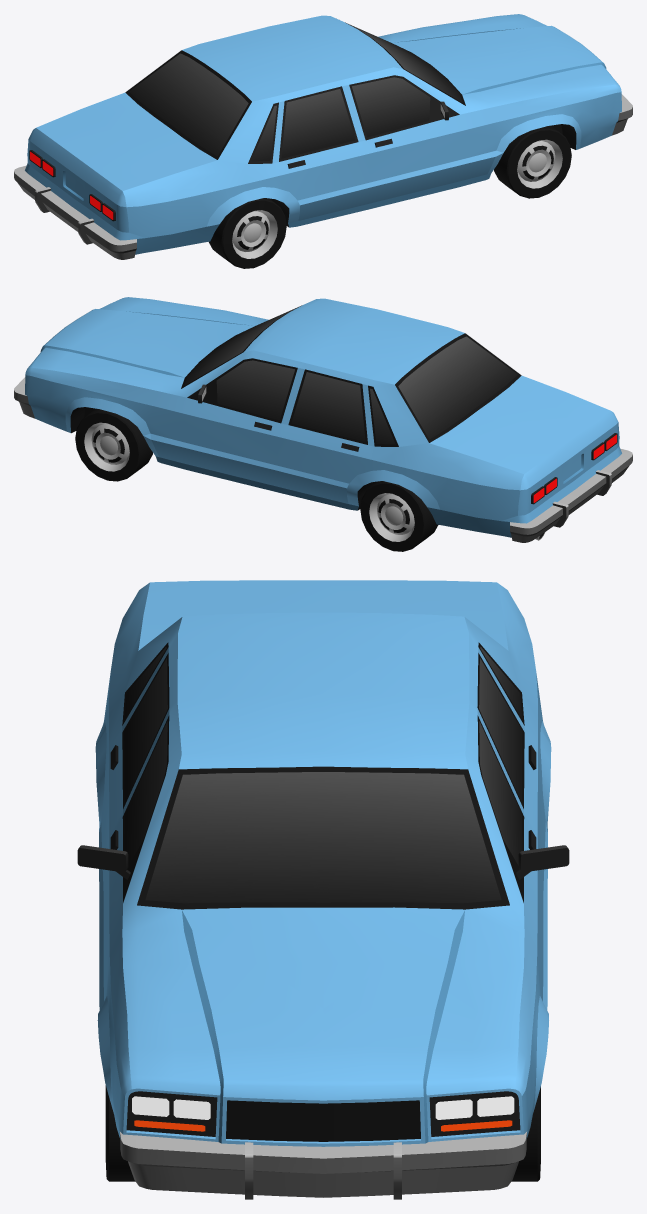
File: Car_115.glb
3 renders of one model, top to bottom at view 1: azimuth 30°, elevation 25°; view 2: azimuth 150°, elevation 25°; view 3: azimuth 270°, elevation 25°, orthographic. The views are drawn at different scales.
Parts seen in each view (by area): view 1: Car_115, wheel_1_Car_115_Wheel_1R, wheel_3_Car_115_Wheel_2R; view 2: Car_115, wheel_0_Car_115_Wheel_1L, wheel_2_Car_115_Wheel_2L; view 3: Car_115, wheel_1_Car_115_Wheel_1R, wheel_0_Car_115_Wheel_1L.
Part boxes in pixels (left/top/right/bottom): Car_115: left=14, top=14, right=632, bottom=259; wheel_1_Car_115_Wheel_1R: left=494, top=125, right=571, bottom=198; wheel_3_Car_115_Wheel_2R: left=209, top=198, right=286, bottom=268; Car_115: left=14, top=297, right=632, bottom=542; wheel_0_Car_115_Wheel_1L: left=75, top=408, right=152, bottom=481; wheel_2_Car_115_Wheel_2L: left=360, top=481, right=438, bottom=551; Car_115: left=77, top=580, right=569, bottom=1199; wheel_1_Car_115_Wheel_1R: left=105, top=1085, right=135, bottom=1181; wheel_0_Car_115_Wheel_1L: left=511, top=1086, right=540, bottom=1181.
Bounding box in the file's own units: 5.14 × 1.39 × 2.03.
3 materials, 3 textured.
